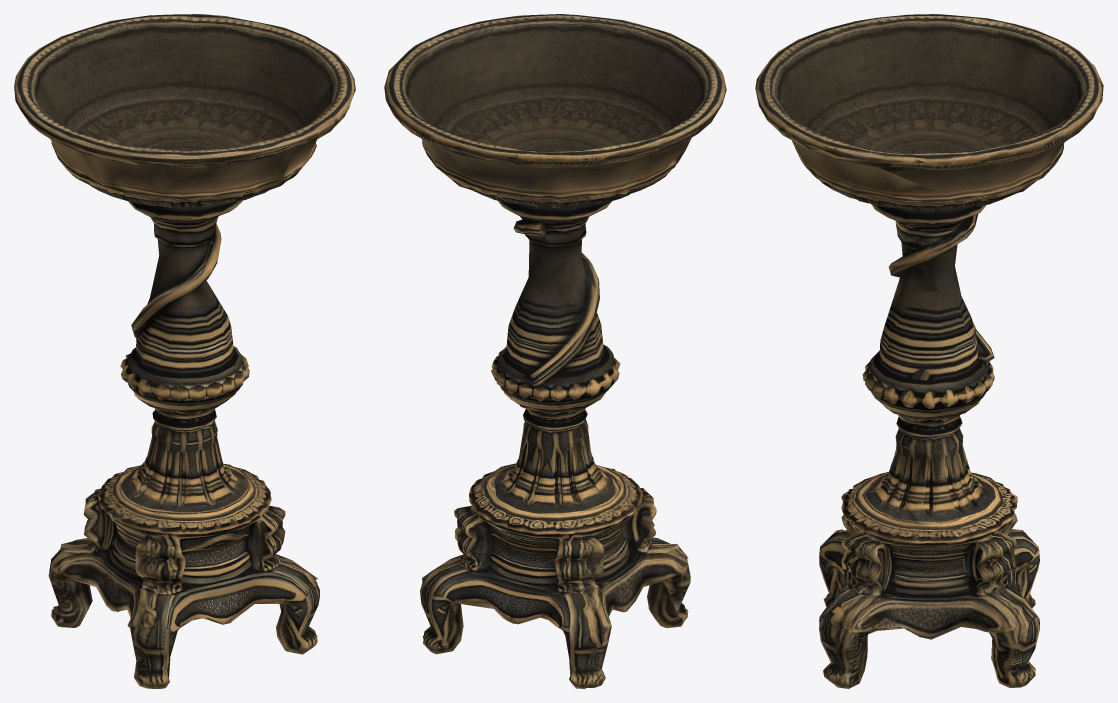
File: prop-brazier.glb
3 views of the same model, side by side, from view 1: azimuth 30°, elevation 25°; view 2: azimuth 150°, elevation 25°; view 3: azimuth 270°, elevation 25° (orthographic).
Bounding box in the file's own units: 1.07 × 1.91 × 1.07.
1 material, 1 textured.
